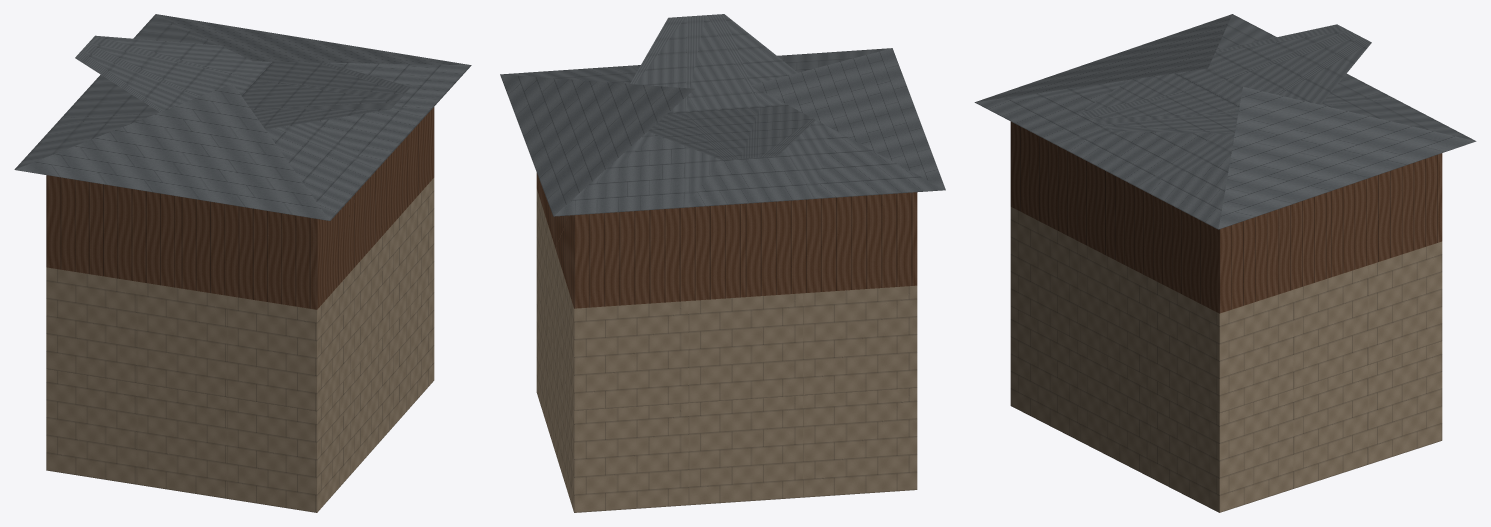
The model's file is bld_c29_11_709.gltf.
3 views of the same model, side by side, from view 1: azimuth 30°, elevation 25°; view 2: azimuth 150°, elevation 25°; view 3: azimuth 270°, elevation 25° (orthographic). The views are drawn at different scales.
Visible parts, largest first — view 1: bld_c29_11_709; view 2: bld_c29_11_709; view 3: bld_c29_11_709.
Part boxes in pixels (x1,y1,x2,y2): bld_c29_11_709: [14, 14, 471, 512]; bld_c29_11_709: [500, 14, 945, 512]; bld_c29_11_709: [974, 14, 1476, 512].
Size of the model in its own units: 10.45 by 7.8 by 10.29.
3 materials, 3 textured.
